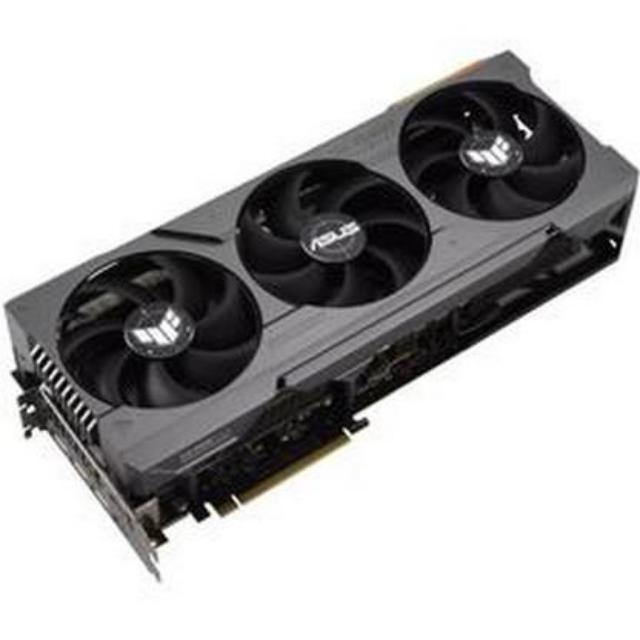GPU: (0, 34, 637, 571)
